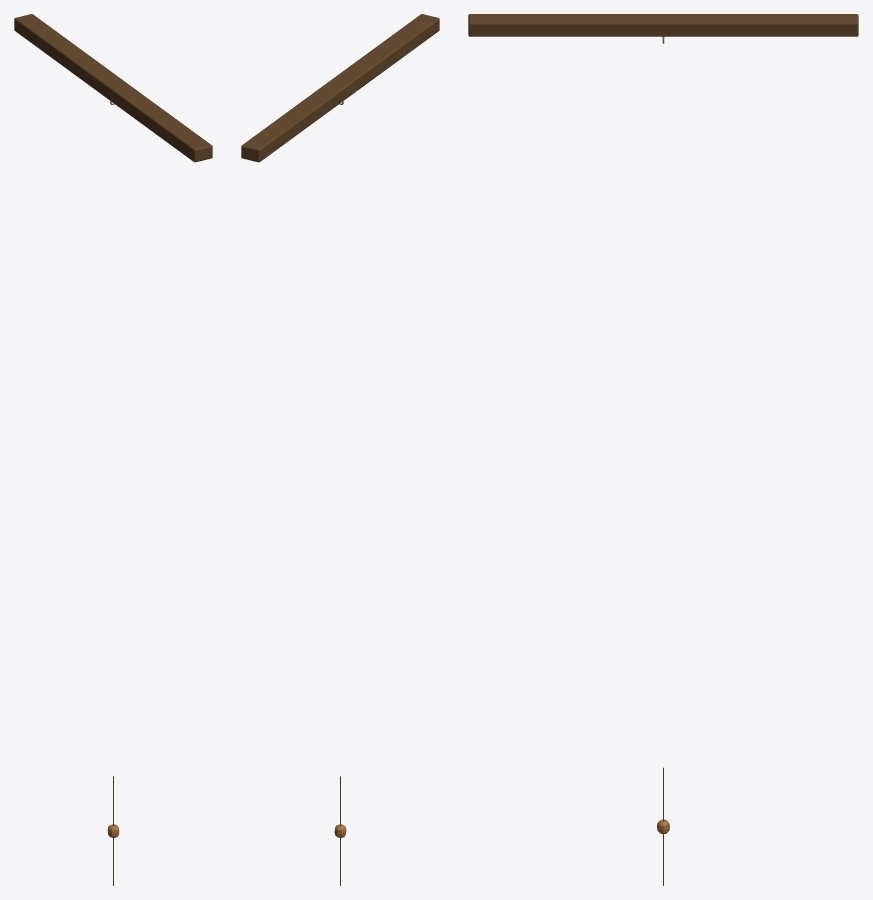
Rendered from alcove-curtain.glb.
3 views of the same model, side by side, from view 1: azimuth 30°, elevation 25°; view 2: azimuth 150°, elevation 25°; view 3: azimuth 270°, elevation 25° (orthographic). The views are drawn at different scales.
Visible parts, largest first — view 1: AlcoveSupportRail; view 2: AlcoveSupportRail; view 3: AlcoveSupportRail.
Part boxes in pixels (left/top/right/bottom): AlcoveSupportRail: left=14, top=14, right=212, bottom=162; AlcoveSupportRail: left=241, top=14, right=439, bottom=162; AlcoveSupportRail: left=468, top=14, right=858, bottom=36.
Bounding box in the file's own units: 0.18 × 7.36 × 3.
